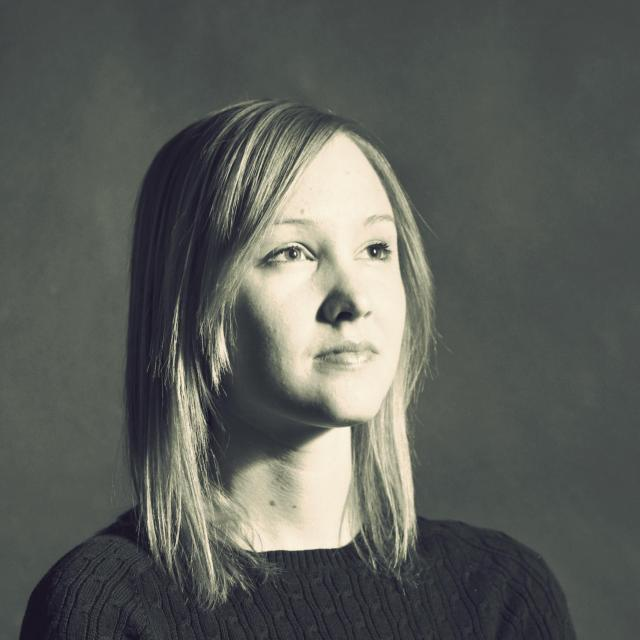no-glass: (263, 237, 397, 264)
